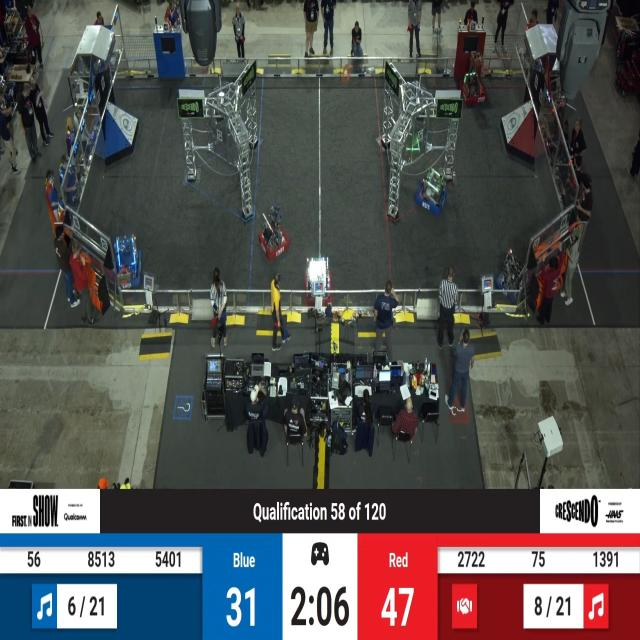Robot: (492, 238, 531, 309), (455, 44, 491, 114), (108, 229, 147, 290), (299, 249, 338, 304), (258, 203, 292, 266), (415, 160, 451, 218)
